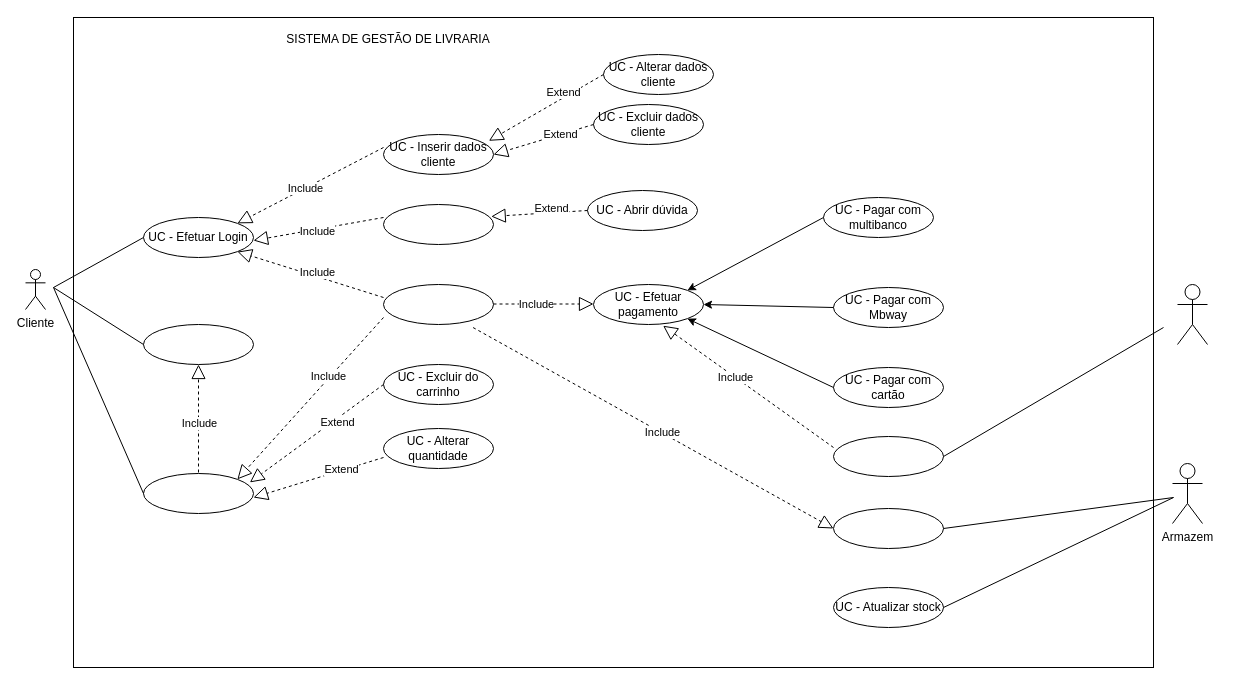
Some shapes in this 1241 by 685 pixel diagram are drawn without their labels. Each missing label, with the centre of its shape:
Sistema de pagamento: point (1192, 314)
UC - Adicionar ao carrinho: point (198, 493)
UC - Confirmar pagamento: point (888, 456)
UC - Consultar estado encomenda: point (438, 224)
UC - Finalizar encomenda: point (438, 304)
UC - Selecionar livros: point (198, 344)
UC - Verificar stock: point (888, 528)
